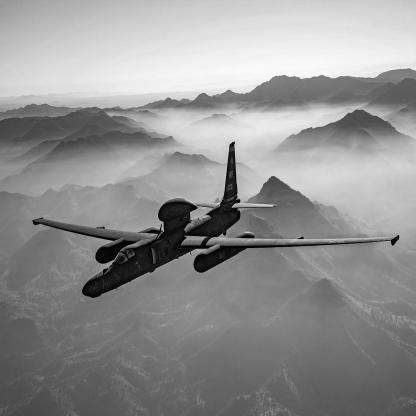U2: (34, 143, 401, 301)
